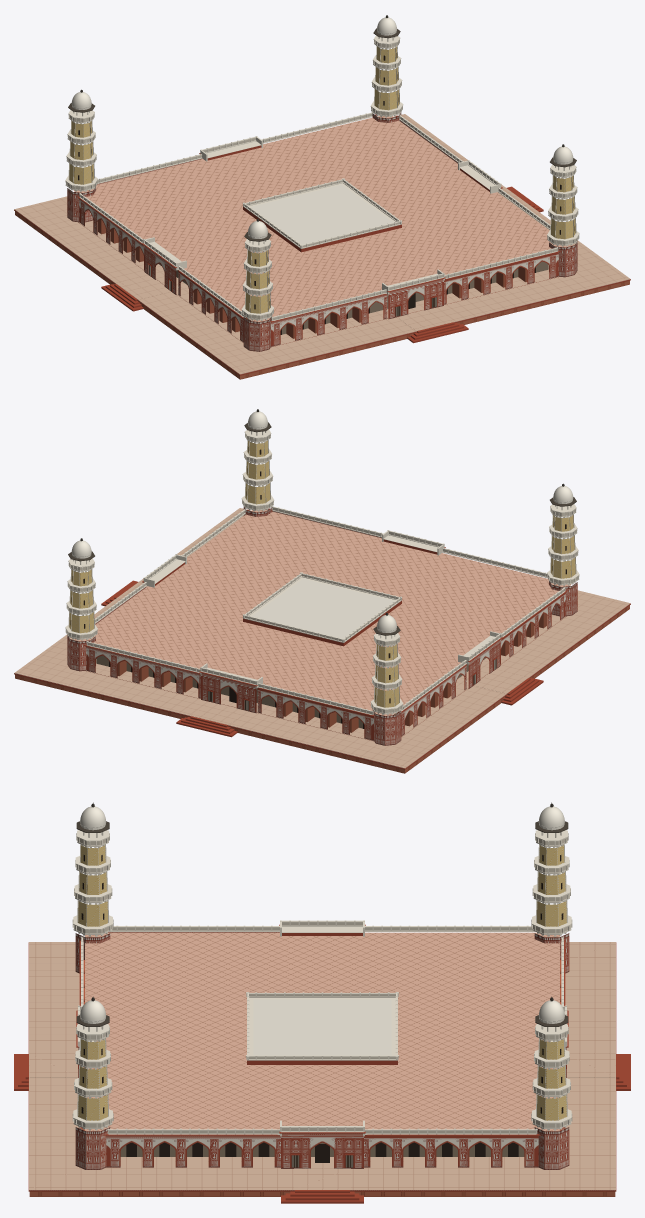
The model's file is tomb_of_jahangir.glb.
3 renders of one model, top to bottom at view 1: azimuth 30°, elevation 25°; view 2: azimuth 150°, elevation 25°; view 3: azimuth 270°, elevation 25°, orthographic. The views are drawn at different scales.
Parts seen in each view (by area): view 1: m_roof_tessellated, m_terrace_paving, m_white_stone, m_white_marble, m_bay_inlay, m_chevron, m_parapet_jali, m_red_sandstone, m_podium_wall, m_tower_inlay, m_block_inlay, m_verandah_pier (+2 smaller); view 2: m_roof_tessellated, m_terrace_paving, m_white_stone, m_white_marble, m_bay_inlay, m_chevron, m_parapet_jali, m_red_sandstone, m_podium_wall, m_tower_inlay, m_block_inlay, m_verandah_pier (+2 smaller); view 3: m_roof_tessellated, m_terrace_paving, m_white_stone, m_white_marble, m_chevron, m_bay_inlay, m_parapet_jali, m_red_sandstone, m_tower_inlay, m_podium_wall, m_block_inlay, m_door_dark (+3 smaller).
Part boxes in pixels (x1,y1,x2,y2): m_roof_tessellated: [73, 116, 570, 321]; m_terrace_paving: [14, 114, 629, 373]; m_white_stone: [65, 35, 579, 321]; m_white_marble: [71, 17, 573, 244]; m_bay_inlay: [79, 200, 558, 346]; m_chevron: [69, 46, 575, 313]; m_parapet_jali: [66, 40, 578, 320]; m_red_sandstone: [14, 114, 630, 375]; m_podium_wall: [15, 211, 629, 379]; m_tower_inlay: [67, 112, 577, 351]; m_block_inlay: [144, 145, 489, 319]; m_verandah_pier: [98, 219, 527, 338]; m_roof_tessellated: [74, 510, 571, 715]; m_terrace_paving: [15, 508, 630, 767]; m_white_stone: [65, 429, 579, 715]; m_white_marble: [71, 411, 573, 638]; m_bay_inlay: [86, 593, 565, 740]; m_chevron: [69, 440, 575, 707]; m_parapet_jali: [66, 434, 578, 714]; m_red_sandstone: [14, 508, 630, 769]; m_podium_wall: [15, 605, 629, 773]; m_tower_inlay: [67, 506, 577, 745]; m_block_inlay: [155, 539, 500, 713]; m_verandah_pier: [117, 613, 546, 732]; m_roof_tessellated: [85, 932, 559, 1131]; m_terrace_paving: [29, 942, 615, 1189]; m_white_stone: [72, 830, 572, 1167]; m_white_marble: [80, 806, 564, 1055]; m_chevron: [78, 845, 566, 1120]; m_bay_inlay: [106, 1135, 538, 1167]; m_parapet_jali: [74, 838, 570, 1133]; m_red_sandstone: [14, 924, 630, 1203]; m_tower_inlay: [75, 933, 569, 1169]; m_podium_wall: [29, 1191, 615, 1196]; m_block_inlay: [281, 933, 363, 1168]; m_door_dark: [81, 855, 563, 1162].
Bounding box in the file's own units: 97.96 × 30.48 × 97.96.
Materials: 20 (9 with a texture image).
